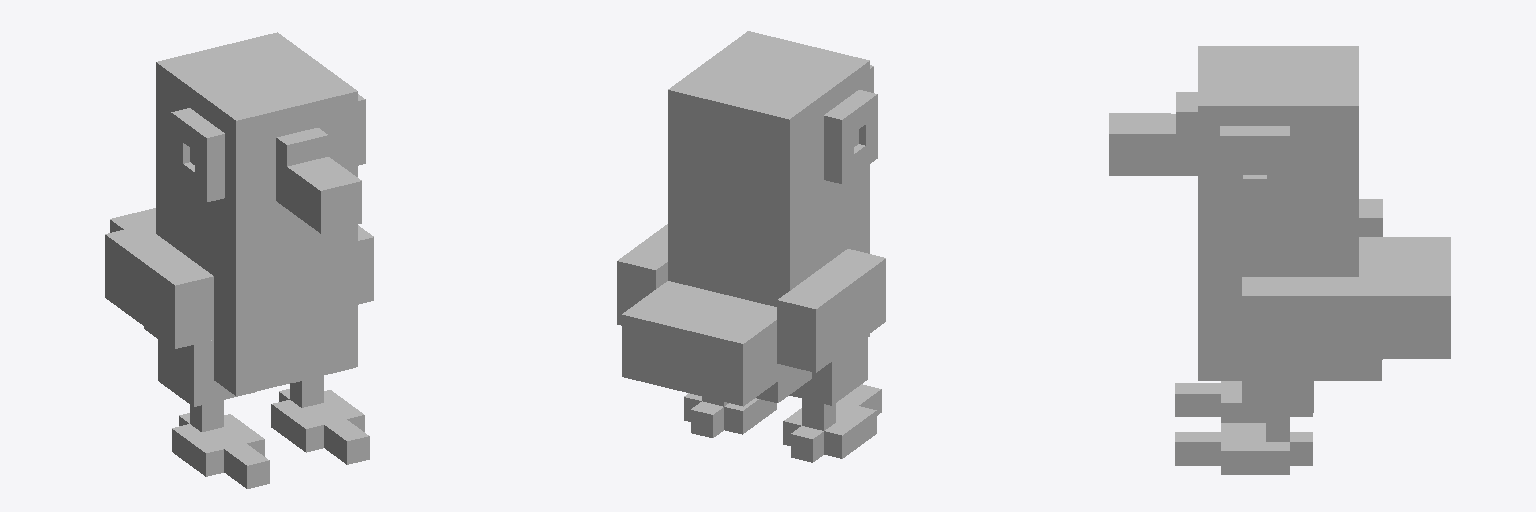
Rendered from enemy.obj.
3 renders of one model, left to right at view 1: azimuth 30°, elevation 25°; view 2: azimuth 150°, elevation 25°; view 3: azimuth 270°, elevation 25°, orthographic.
Parts seen in each view (by area): view 1: Pigeon; view 2: Pigeon; view 3: Pigeon.
Part boxes in pixels (x1,y1,x2,y2): Pigeon: (105,32,373,488); Pigeon: (617,31,885,462); Pigeon: (1109,46,1450,474).
Bounding box in the file's own units: 3.27 × 5.65 × 4.86.